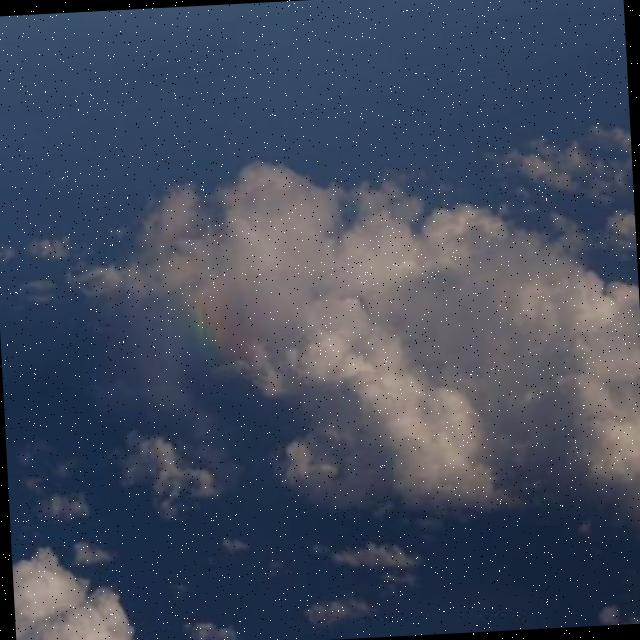Cu: (1, 20, 640, 554)
